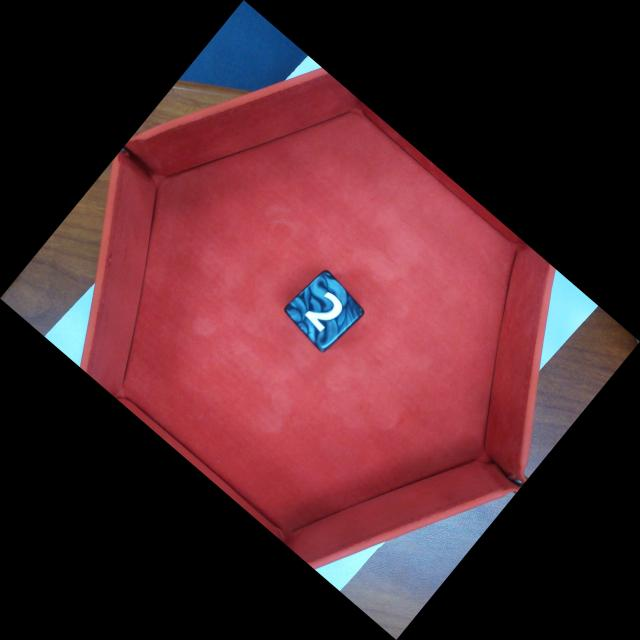dice: (288, 270, 365, 351)
